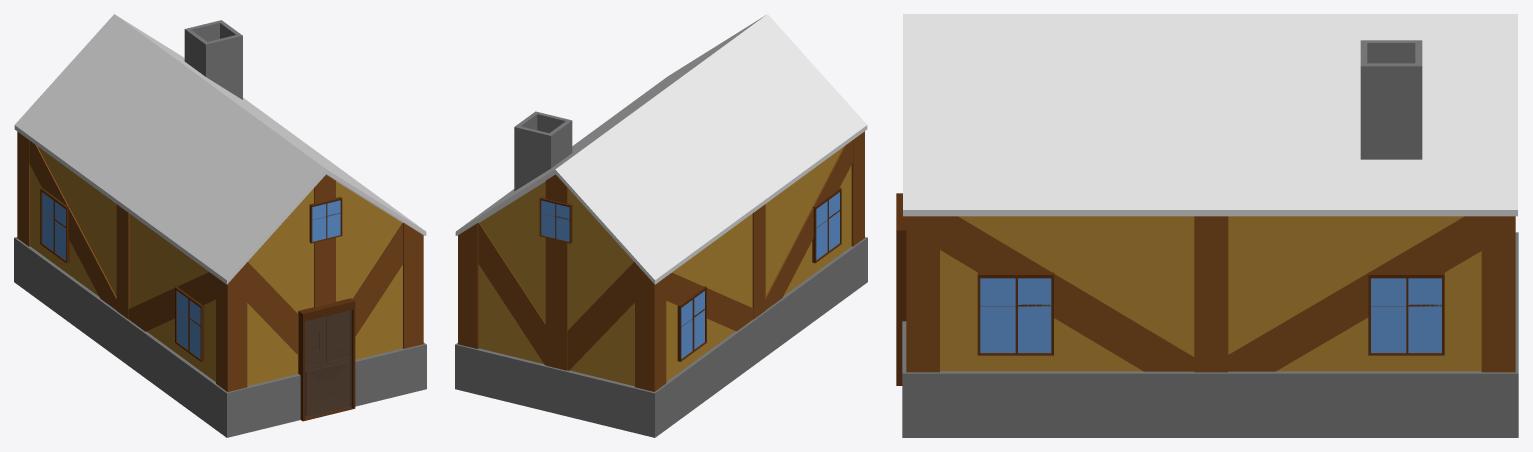
File: Random_Hus (1).fbx
3 views of the same model, side by side, from view 1: azimuth 30°, elevation 25°; view 2: azimuth 150°, elevation 25°; view 3: azimuth 270°, elevation 25° (orthographic). The views are drawn at different scales.
Parts seen in each view (by area): view 1: Cube, Cube.002, Cube.057, Cube.014, Cube.025, Cube.003, Cube.021, Cube.008, Cube.010, Cube.022, Cube.009, Cube.016 (+4 smaller); view 2: Cube, Cube.002, Cube.005, Cube.012, Cube.025, Cube.011, Cube.013, Cube.006, Cube.022, Cube.021, Cube.018, Cube.016 (+3 smaller); view 3: Cube, Cube.002, Cube.024, Cube.023, Cube.025, Cube.007, Cube.001, Cube.006, Cube.015, Cube.003, Cube.057.
Part boxes in pixels (box(x1,y1,x2,y2)): Cube: box(14, 14, 426, 386); Cube.002: box(14, 237, 426, 437); Cube.057: box(298, 298, 355, 421); Cube.014: box(216, 262, 247, 391); Cube.025: box(184, 20, 242, 99); Cube.003: box(403, 223, 423, 348); Cube.021: box(29, 140, 116, 310); Cube.008: box(247, 262, 298, 355); Cube.010: box(352, 223, 403, 336); Cube.022: box(128, 272, 215, 331); Cube.009: box(314, 174, 335, 307); Cube.016: box(175, 286, 204, 361); Cube: box(455, 14, 867, 386); Cube.002: box(455, 237, 867, 437); Cube.005: box(635, 263, 666, 391); Cube.012: box(545, 174, 567, 370); Cube.025: box(514, 111, 572, 191); Cube.011: box(478, 223, 545, 364); Cube.013: box(567, 262, 634, 370); Cube.006: box(458, 223, 478, 348); Cube.022: box(765, 140, 852, 309); Cube.021: box(666, 273, 753, 331); Cube.018: box(677, 286, 706, 361); Cube.016: box(812, 188, 841, 263); Cube: box(903, 14, 1517, 371); Cube.002: box(902, 232, 1518, 437); Cube.024: box(1228, 216, 1481, 371); Cube.023: box(940, 216, 1194, 371); Cube.025: box(1360, 40, 1422, 159); Cube.007: box(977, 272, 1053, 355); Cube.001: box(1368, 272, 1444, 355); Cube.006: box(1481, 216, 1515, 372); Cube.015: box(1194, 216, 1228, 372); Cube.003: box(906, 216, 939, 372); Cube.057: box(896, 193, 906, 385).
Bounding box in the file's own units: 942 × 1096 × 1750.
